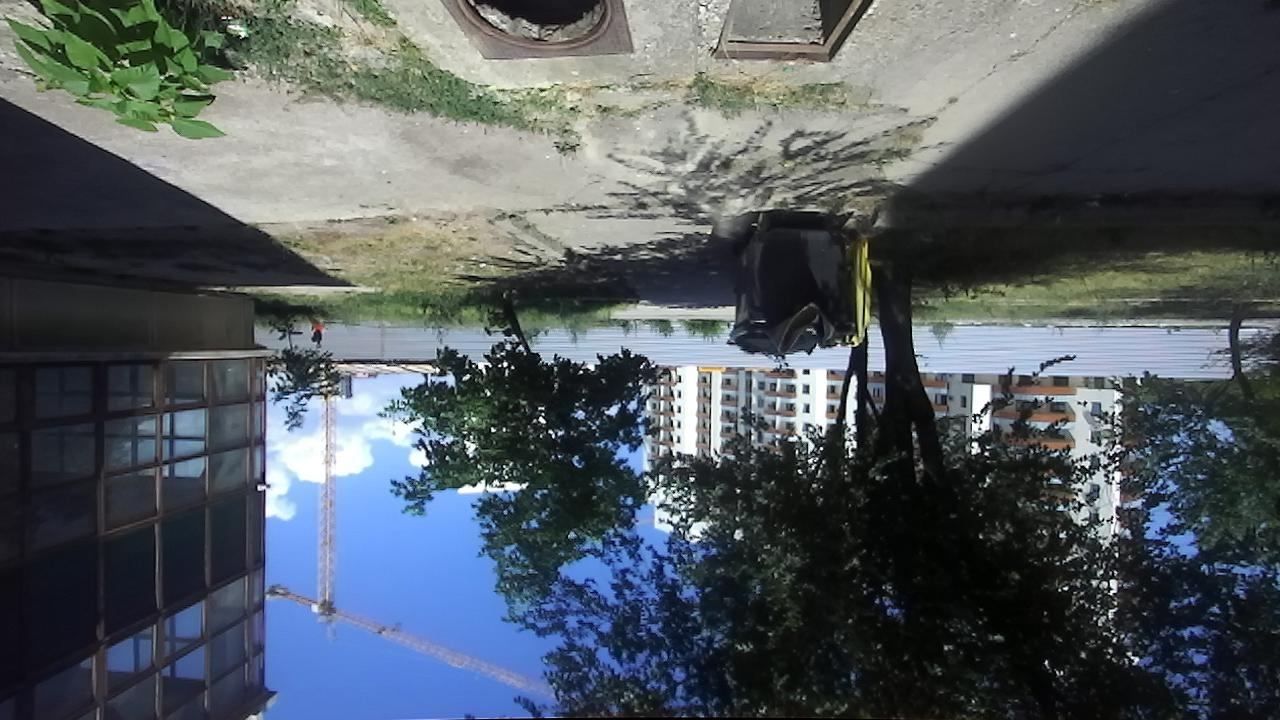drain: (709, 0, 876, 66), (447, 1, 614, 53)
